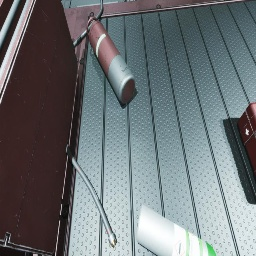0: (136, 204, 216, 256)
FirstAidBox ,: (238, 102, 256, 179)
NitrogenTank ,: (86, 16, 135, 104)
